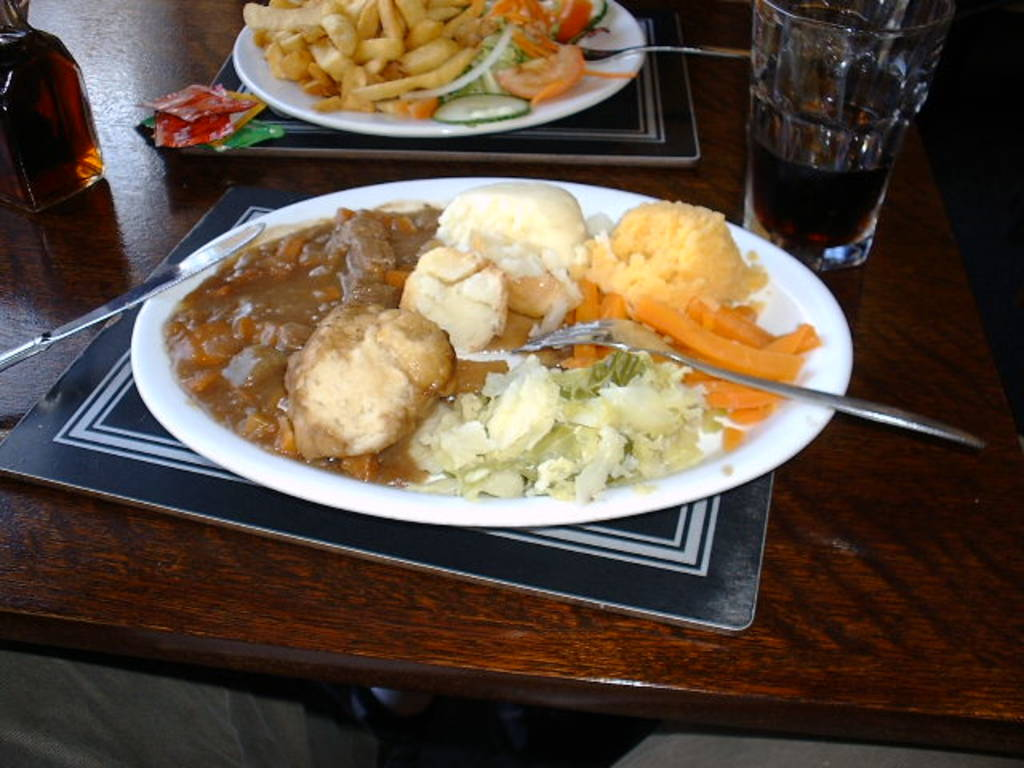French fries: (214, 0, 487, 148)
